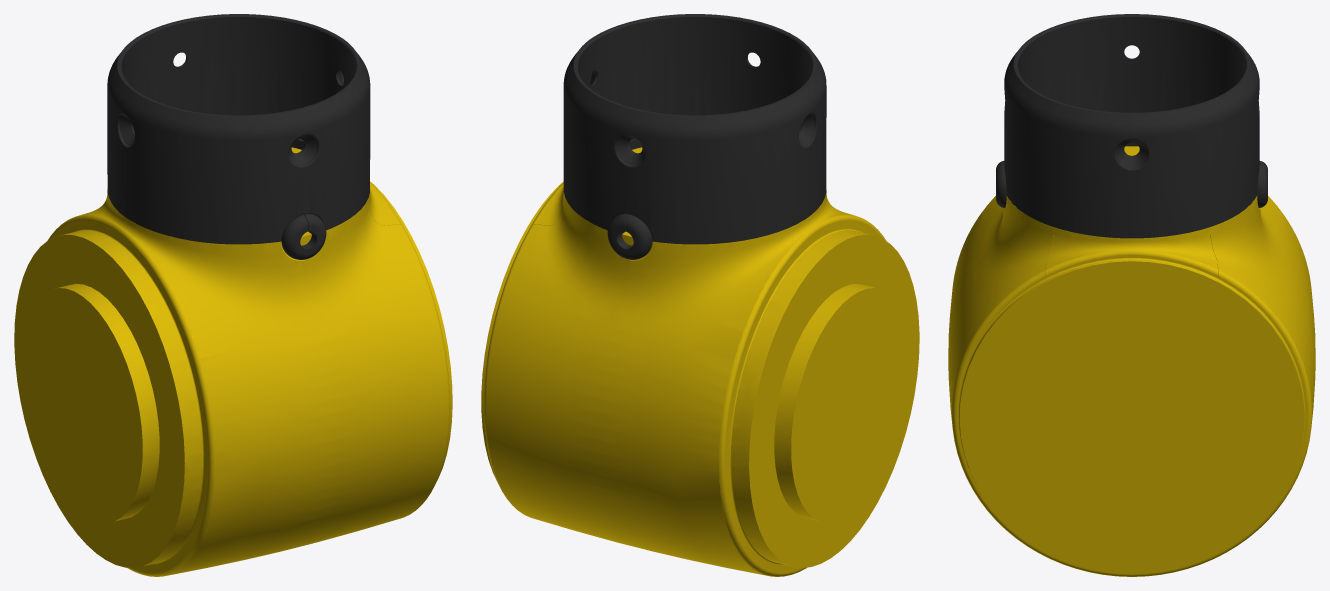
Rendered from wrist_roll_l_j7_link.glb.
3 renders of one model, left to right at view 1: azimuth 30°, elevation 25°; view 2: azimuth 150°, elevation 25°; view 3: azimuth 270°, elevation 25°, orthographic. The views are drawn at different scales.
Bounding box in the file's own units: 0.0667 × 0.1072 × 0.0775.
